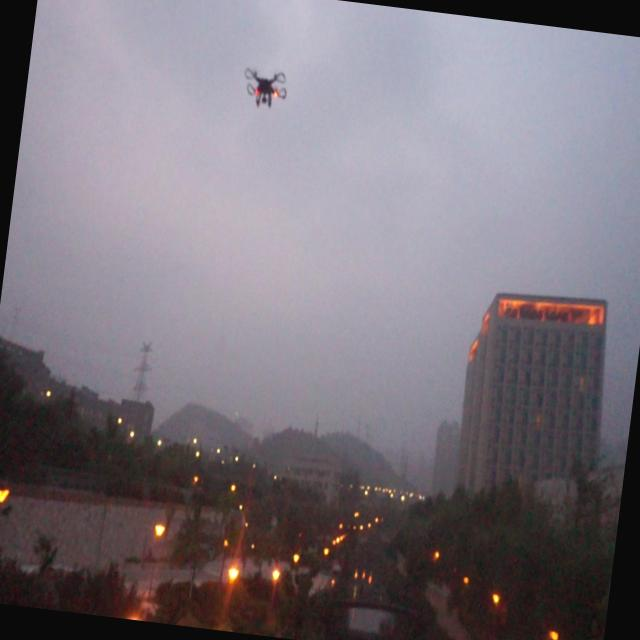drone: (239, 64, 295, 114)
